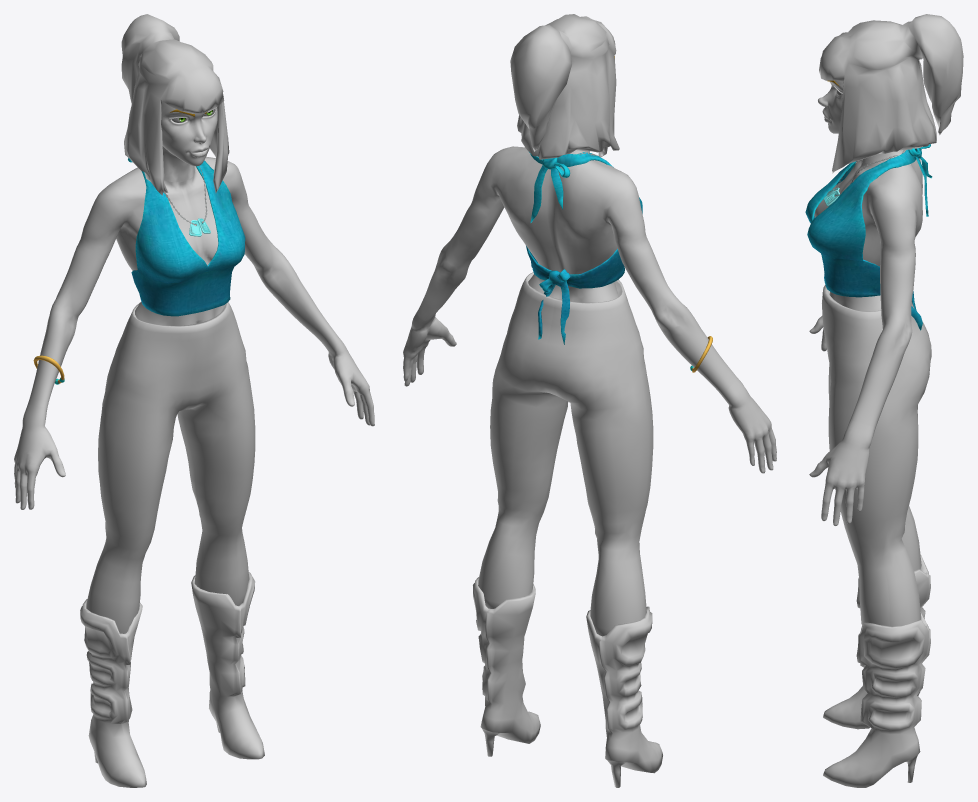
Rendered from W Character 18.fbx.
The picture shows the model from 3 angles, left to right: view 1: azimuth 30°, elevation 25°; view 2: azimuth 150°, elevation 25°; view 3: azimuth 270°, elevation 25°; orthographic projection. The views are drawn at different scales.
Visible parts, largest first — view 1: Wolf3D_Outfit_Bottom.009, body.002, Wolf3D_Outfit_Footwear.009, Wolf3D_Hair.005, Wolf3D_Outfit_Top.007, body.001, head; view 2: Wolf3D_Outfit_Bottom.009, body.002, Wolf3D_Outfit_Footwear.009, Wolf3D_Hair.005, body.001, Wolf3D_Outfit_Top.007; view 3: Wolf3D_Outfit_Bottom.009, Wolf3D_Hair.005, Wolf3D_Outfit_Footwear.009, body.002, Wolf3D_Outfit_Top.007, body.001, head, necklace 3.
Boxes of the visible parts, x1,y1,x2,y2 form: Wolf3D_Outfit_Bottom.009: [86, 302, 255, 633]; body.002: [27, 156, 335, 407]; Wolf3D_Outfit_Footwear.009: [80, 572, 264, 787]; Wolf3D_Hair.005: [121, 14, 229, 195]; Wolf3D_Outfit_Top.007: [128, 158, 245, 316]; body.001: [14, 333, 374, 509]; head: [161, 101, 217, 182]; Wolf3D_Outfit_Bottom.009: [478, 272, 653, 636]; body.002: [417, 146, 735, 392]; Wolf3D_Outfit_Footwear.009: [473, 577, 662, 787]; Wolf3D_Hair.005: [510, 14, 619, 159]; body.001: [403, 311, 776, 473]; Wolf3D_Outfit_Top.007: [526, 152, 642, 344]; Wolf3D_Outfit_Bottom.009: [822, 285, 931, 626]; Wolf3D_Hair.005: [819, 14, 963, 173]; Wolf3D_Outfit_Footwear.009: [823, 554, 930, 787]; body.002: [814, 158, 922, 427]; Wolf3D_Outfit_Top.007: [805, 144, 932, 330]; body.001: [809, 315, 875, 525]; head: [818, 80, 910, 165]; necklace 3: [823, 150, 904, 206].
Size of the model in its own units: 96.47 by 190 by 37.11.
